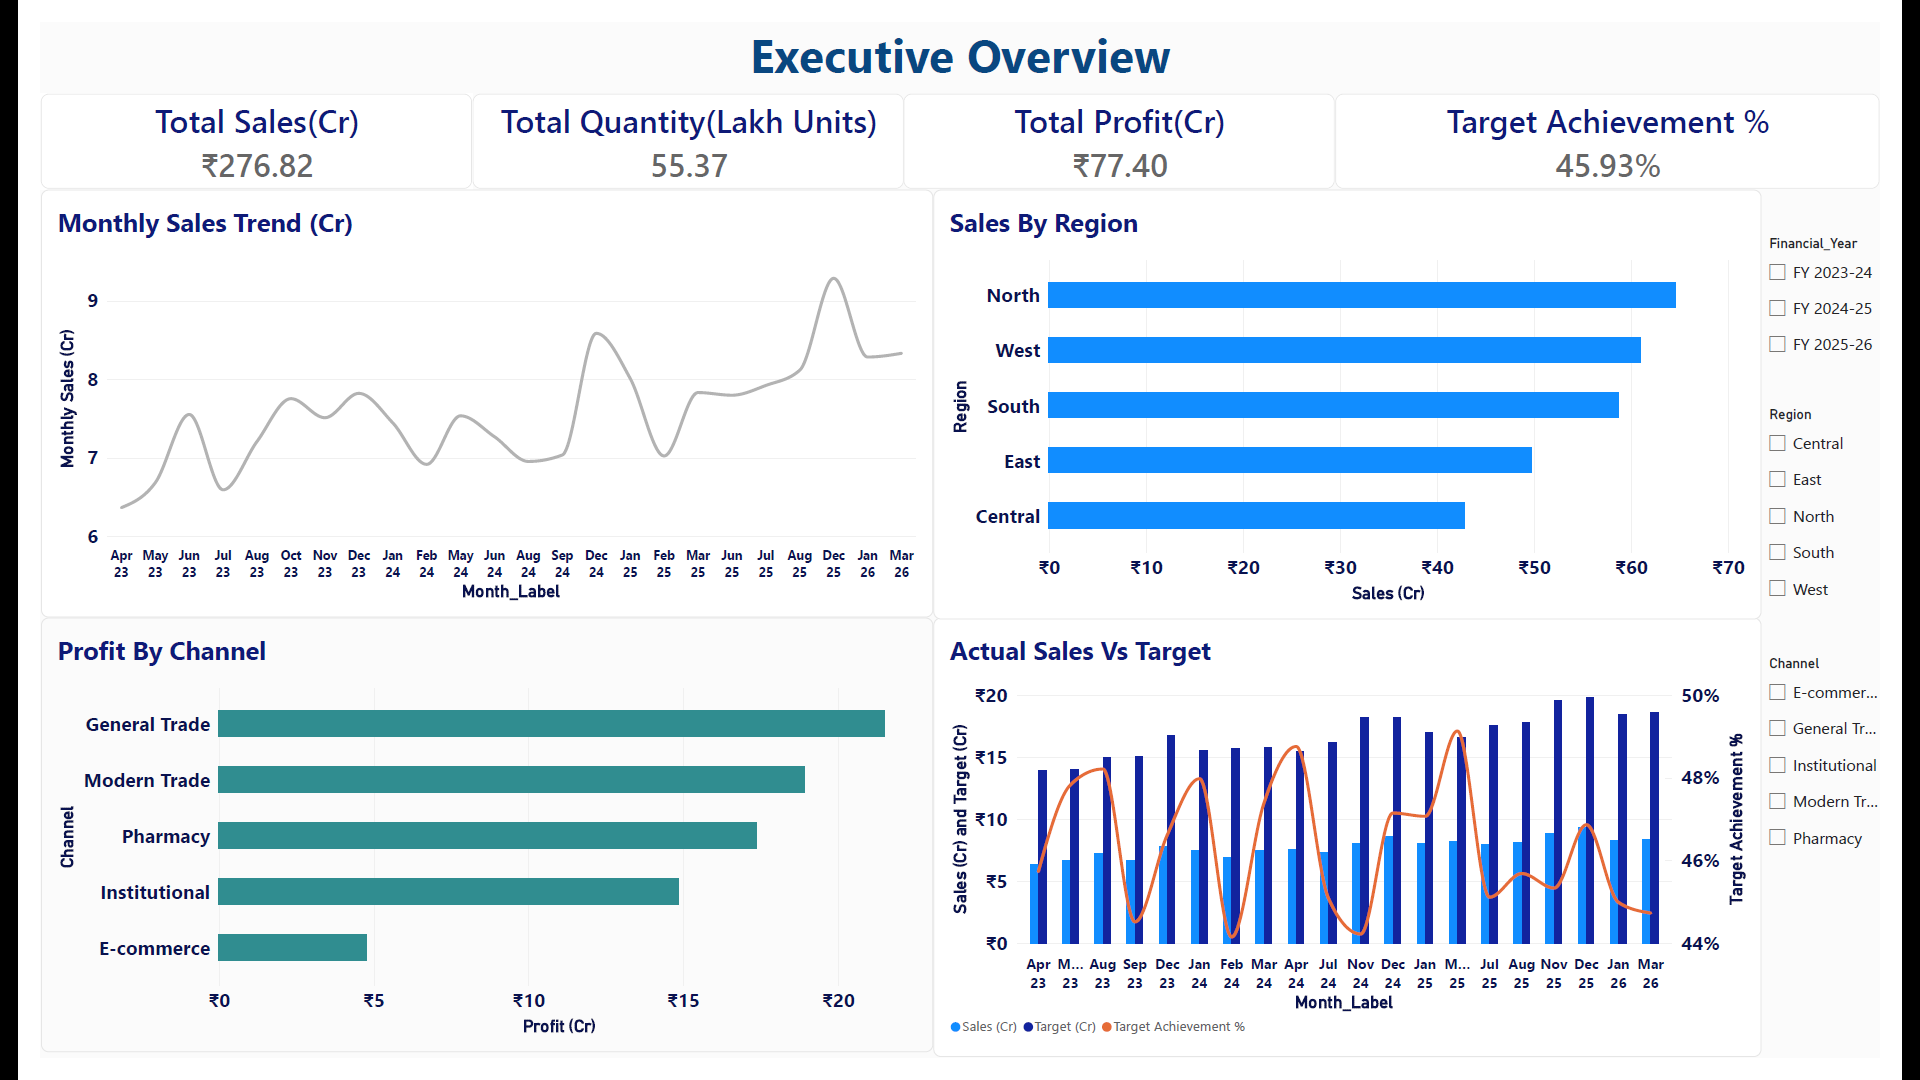

The page's visual inventory and layout, read from the dashboard file:
{"tool":"powerbi","page":{"name":"Executive Overview","canvas":[1920,1080],"ordinal":0},"visuals":[{"type":"cardVisual","fields":{"Data":["Fact_Sales.Sales (Cr)"]},"box":[0,0,450.6,99.5],"z":0},{"type":"cardVisual","fields":{"Data":["Fact_Sales.Profit (Cr)"]},"box":[901.2,0,450.6,99.5],"z":1000},{"type":"cardVisual","fields":{"Data":["Fact_Sales.Quantity (Lakh)"]},"box":[450.6,0,450.6,99.5],"z":2000},{"type":"cardVisual","fields":{"Data":["Fact_Sales.Target Achievement %"]},"box":[1351.8,0,568.2,99.5],"z":3000},{"type":"lineChart","title":"Monthly Sales Trend (Cr)","fields":{"Category":["Dim_Date.Month_Label"],"Y":["Business_Insights.Monthly Sales (Cr)"]},"box":[0,101.3,1055,416.2],"z":4000},{"type":"clusteredBarChart","title":"Profit By Channel","fields":{"Category":["Dim_Customer.Channel"],"Y":["Fact_Sales.Profit (Cr)"]},"box":[0,517.6,1055,454.2],"z":5000},{"type":"lineClusteredColumnComboChart","title":"Actual Sales Vs Target","fields":{"Category":["Dim_Date.Month_Label"],"Y":["Fact_Sales.Sales (Cr)","Fact_Sales.Target (Cr)"],"Y2":["Fact_Sales.Target Achievement %"]},"box":[1055,517.6,865,454.2],"z":6000},{"type":"slicer","fields":{"Values":["Dim_Date.Financial_Year"]},"box":[874.1,309.5,300,300],"z":7000},{"type":"clusteredBarChart","title":"Sales By Region","fields":{"Category":["Dim_Territory.Region"],"Y":["Fact_Sales.Sales (Cr)"]},"box":[1055,101.3,865,416.2],"z":8000},{"type":"slicer","fields":{"Values":["Dim_Territory.Region"]},"box":[1800.6,238.9,119.4,300.4],"z":9000},{"type":"slicer","fields":{"Values":["Dim_Customer.Channel"]},"box":[913.9,698.5,141.2,300.4],"z":10000},{"type":"textbox","box":[100,100,300,300],"z":11000},{"type":"textbox","box":[100,100,300,300],"z":12000},{"type":"textbox","box":[100,100,300,300],"z":13000},{"type":"textbox","box":[100,100,300,300],"z":14000},{"type":"textbox","box":[0,971.8,1920.1,108.6],"z":14001}]}

Visuals, with their boxes in screenshot pixels (x1, y1, x2, y2), scaled from the page's 1920x1080 canvas onto the 1920x1080 screenshot:
cardVisual - Fact_Sales.Sales (Cr): (left=0, top=0, right=451, bottom=100)
cardVisual - Fact_Sales.Profit (Cr): (left=901, top=0, right=1352, bottom=100)
cardVisual - Fact_Sales.Quantity (Lakh): (left=451, top=0, right=901, bottom=100)
cardVisual - Fact_Sales.Target Achievement %: (left=1352, top=0, right=1919, bottom=100)
"Monthly Sales Trend (Cr)" lineChart: (left=0, top=101, right=1055, bottom=518)
"Profit By Channel" clusteredBarChart: (left=0, top=518, right=1055, bottom=972)
"Actual Sales Vs Target" lineClusteredColumnComboChart: (left=1055, top=518, right=1919, bottom=972)
slicer - Dim_Date.Financial_Year: (left=874, top=310, right=1174, bottom=610)
"Sales By Region" clusteredBarChart: (left=1055, top=101, right=1919, bottom=518)
slicer - Dim_Territory.Region: (left=1801, top=239, right=1919, bottom=539)
slicer - Dim_Customer.Channel: (left=914, top=698, right=1055, bottom=999)
textbox: (left=100, top=100, right=400, bottom=400)
textbox: (left=100, top=100, right=400, bottom=400)
textbox: (left=100, top=100, right=400, bottom=400)
textbox: (left=100, top=100, right=400, bottom=400)
textbox: (left=0, top=972, right=1919, bottom=1079)
